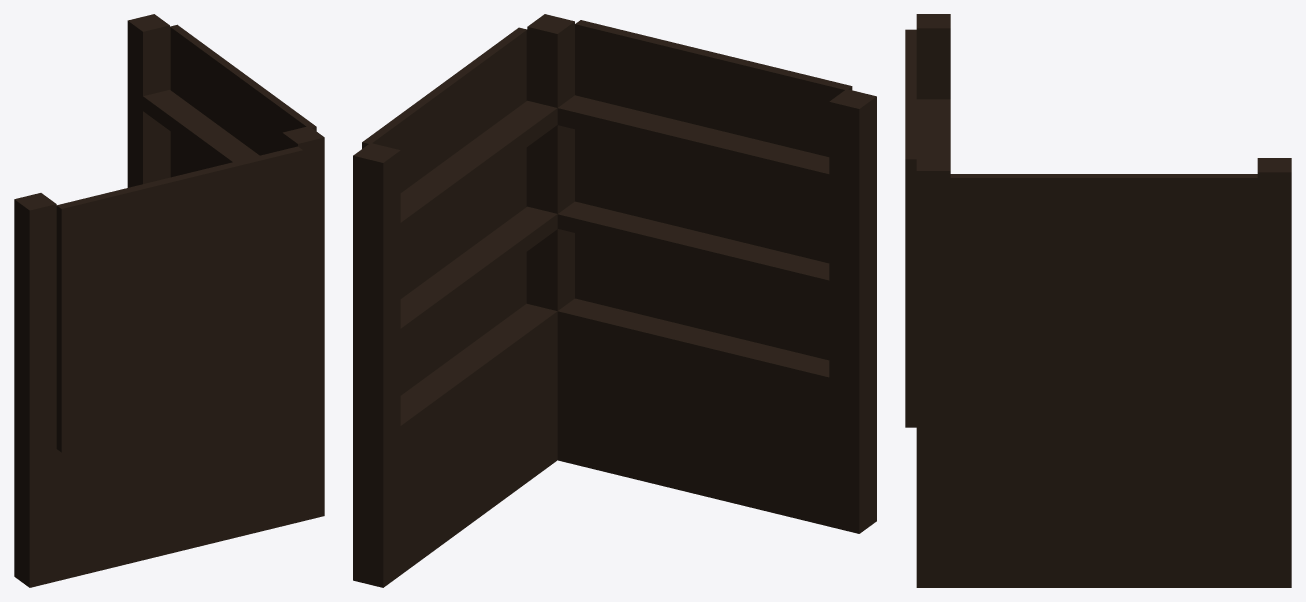
The model's file is Bar cabinet.fbx.
3 views of the same model, side by side, from view 1: azimuth 30°, elevation 25°; view 2: azimuth 150°, elevation 25°; view 3: azimuth 270°, elevation 25° (orthographic). The views are drawn at different scales.
Visible parts, largest first — view 1: Bar kast; view 2: Bar kast; view 3: Bar kast.
Boxes of the visible parts, x1,y1,x2,y2 form: Bar kast: (14, 14, 324, 587); Bar kast: (353, 14, 876, 587); Bar kast: (905, 14, 1291, 587).
Bounding box in the file's own units: 496 × 594 × 499.
